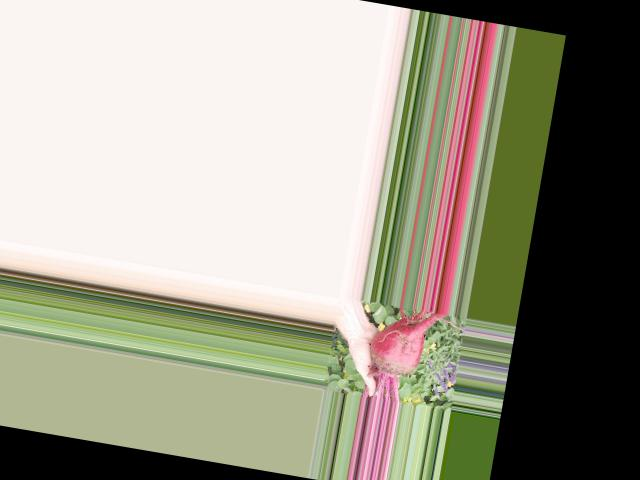beet: (362, 302, 447, 407)
